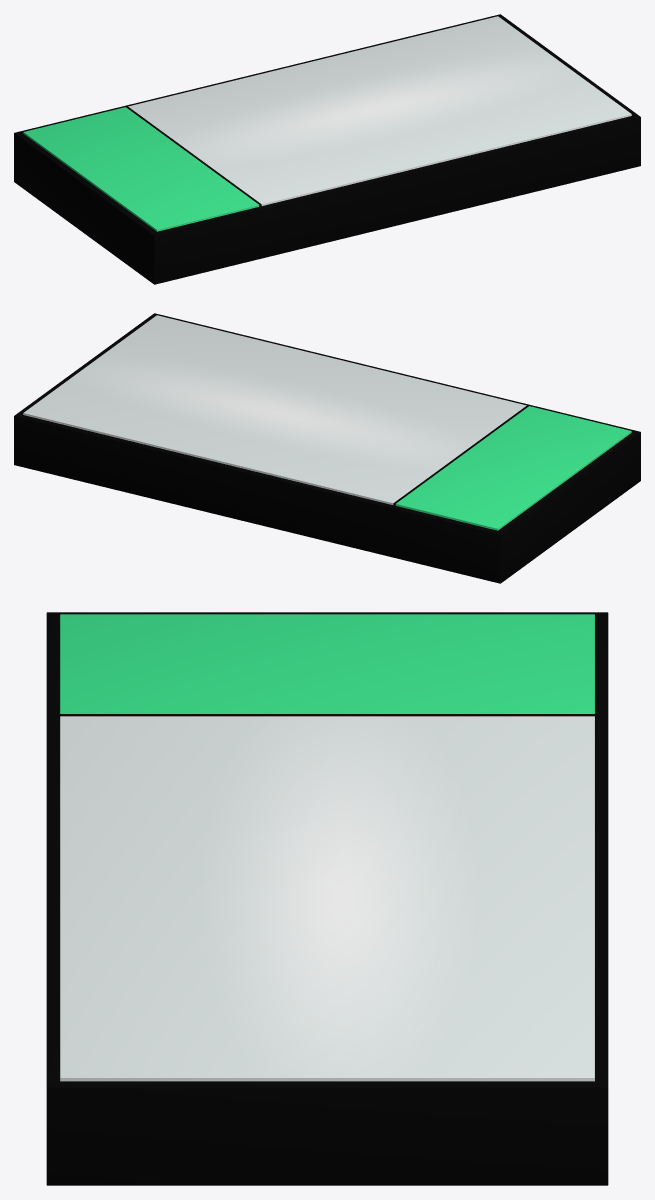
Rendered from generic-tile.fbx.
The picture shows the model from 3 angles, top to bottom: view 1: azimuth 30°, elevation 25°; view 2: azimuth 150°, elevation 25°; view 3: azimuth 270°, elevation 25°; orthographic projection. The views are drawn at different scales.
Parts seen in each view (by area): view 1: TileBase; view 2: TileBase; view 3: TileBase.
Boxes of the visible parts, x1=… form: TileBase: x1=14, y1=14, x2=640, y2=284; TileBase: x1=14, y1=313, x2=640, y2=583; TileBase: x1=46, y1=612, x2=608, y2=1185.
Size of the model in its own units: 200 by 20.09 by 100.
